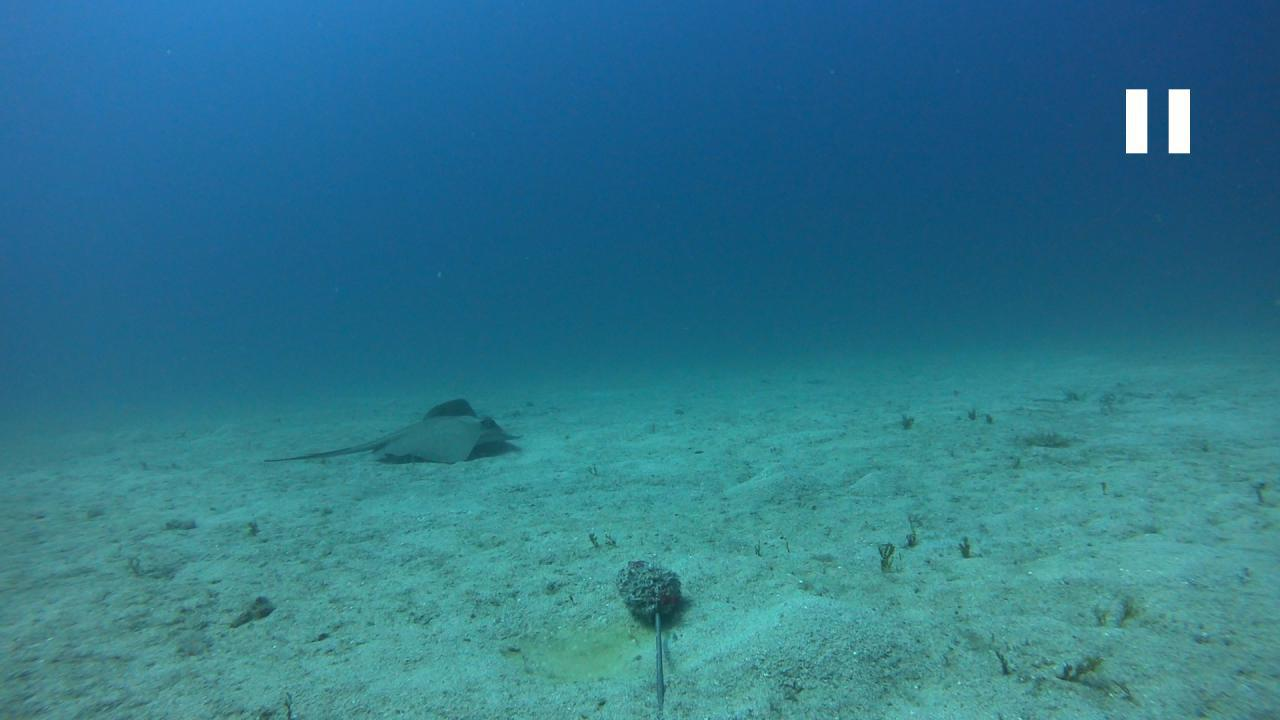dasyatis: (262, 395, 524, 464)
